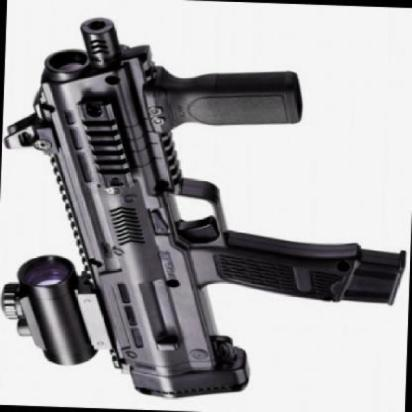Gun: (0, 0, 390, 391)
